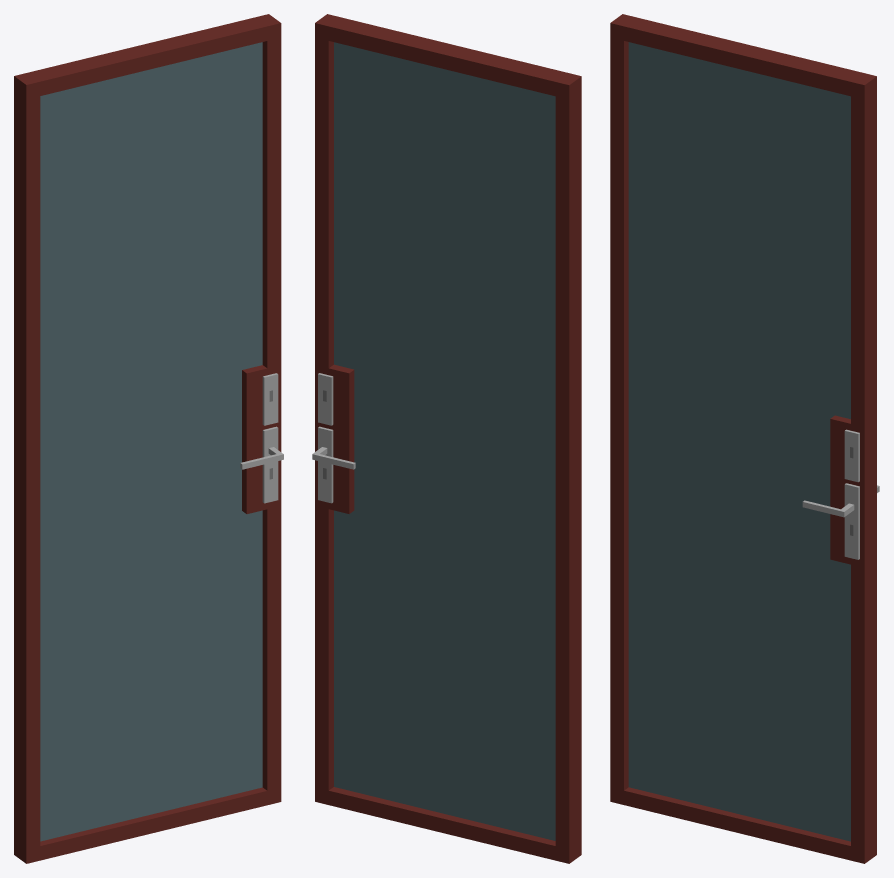
File: Door.fbx
3 renders of one model, left to right at view 1: azimuth 30°, elevation 25°; view 2: azimuth 150°, elevation 25°; view 3: azimuth 330°, elevation 25°, orthographic.
Parts seen in each view (by area): view 1: Frame_and_glazing1, Handle_and_lockset1; view 2: Frame_and_glazing1, Handle_and_lockset2; view 3: Frame_and_glazing1, Handle_and_lockset1.
Part boxes in pixels (x1,y1,x2,y2): Frame_and_glazing1: (14, 14, 281, 863); Handle_and_lockset1: (240, 373, 283, 503); Frame_and_glazing1: (315, 14, 581, 863); Handle_and_lockset2: (312, 373, 355, 503); Frame_and_glazing1: (610, 14, 876, 863); Handle_and_lockset1: (802, 429, 859, 559).
Bounding box in the file's own units: 0.7362 × 2.15 × 0.178.
